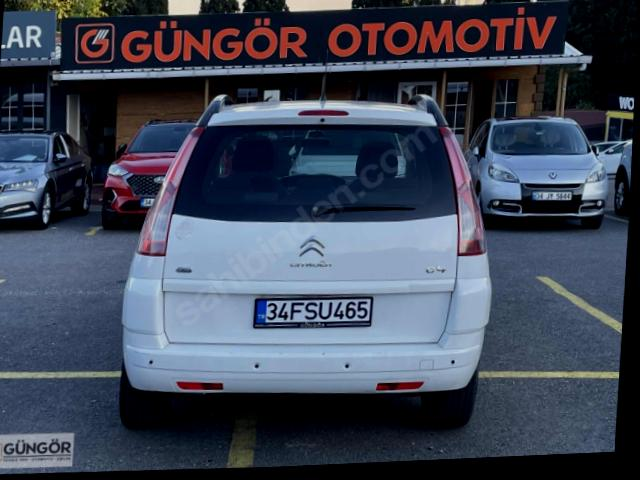plaka: (253, 296, 373, 327), (532, 191, 572, 200)
